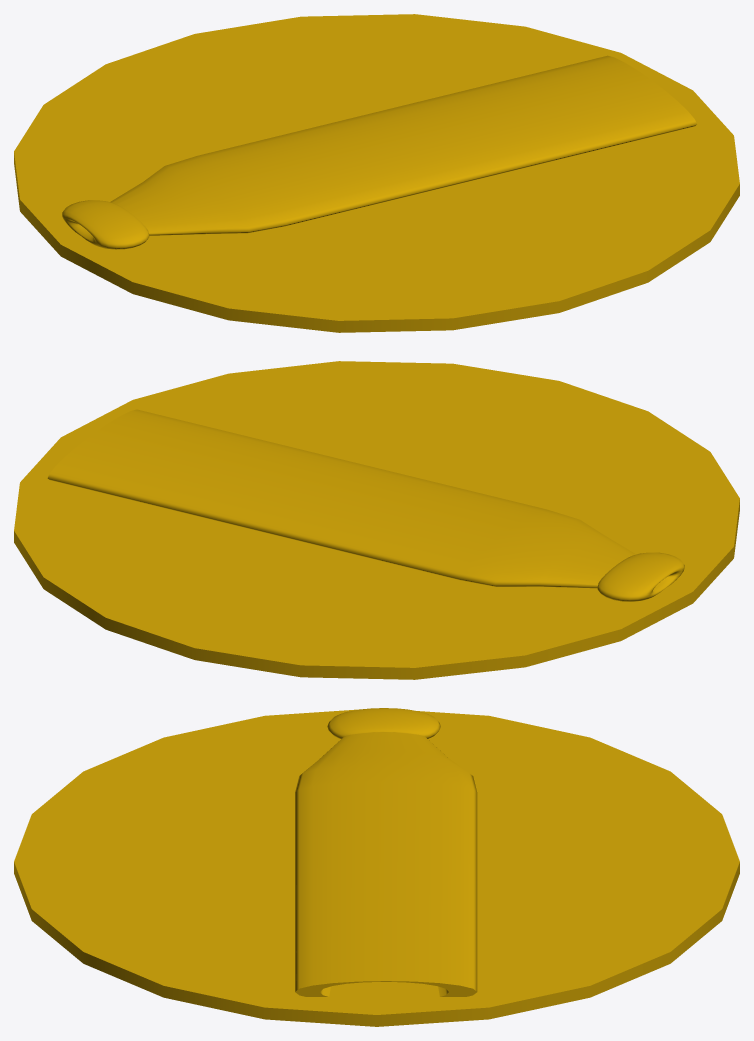
Rendered from milkCoin.fbx.
3 views of the same model, one above another, from view 1: azimuth 30°, elevation 25°; view 2: azimuth 150°, elevation 25°; view 3: azimuth 270°, elevation 25° (orthographic).
Parts seen in each view (by area): view 1: pCylinder1, group2; view 2: pCylinder1, group2; view 3: pCylinder1, group2.
Part boxes in pixels (x1,y1,x2,y2): pCylinder1: [14, 14, 739, 332]; group2: [62, 55, 696, 249]; pCylinder1: [14, 361, 739, 679]; group2: [47, 409, 684, 601]; pCylinder1: [14, 709, 739, 1026]; group2: [295, 708, 477, 996].
Size of the model in its own units: 1.45 by 0.0616 by 1.45.
